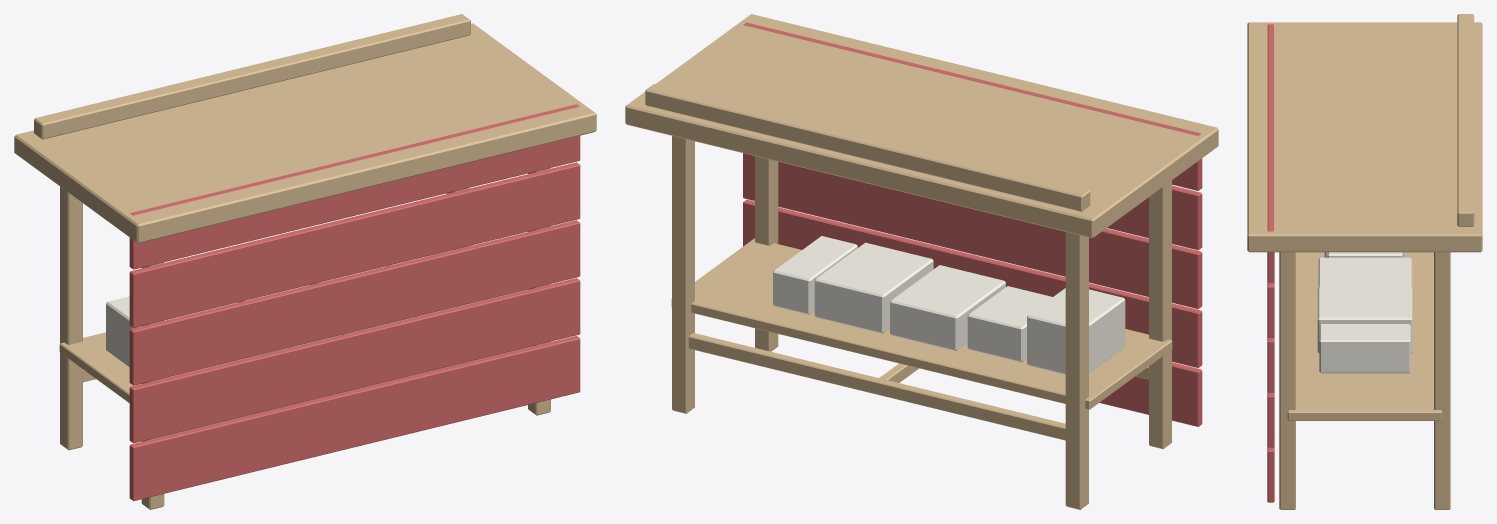
The model's file is indoor-market-hall-and-traders-stall-counter-module-0979a957.glb.
3 renders of one model, left to right at view 1: azimuth 30°, elevation 25°; view 2: azimuth 150°, elevation 25°; view 3: azimuth 270°, elevation 25°, orthographic. The views are drawn at different scales.
Visible parts, largest first — view 1: stall-counter-module; view 2: stall-counter-module; view 3: stall-counter-module.
Boxes of the visible parts, left/top/right/bottom form: stall-counter-module: left=14, top=14, right=596, bottom=509; stall-counter-module: left=625, top=14, right=1218, bottom=509; stall-counter-module: left=1247, top=14, right=1482, bottom=509.
Size of the model in its own units: 1.5 by 1 by 0.6999.
